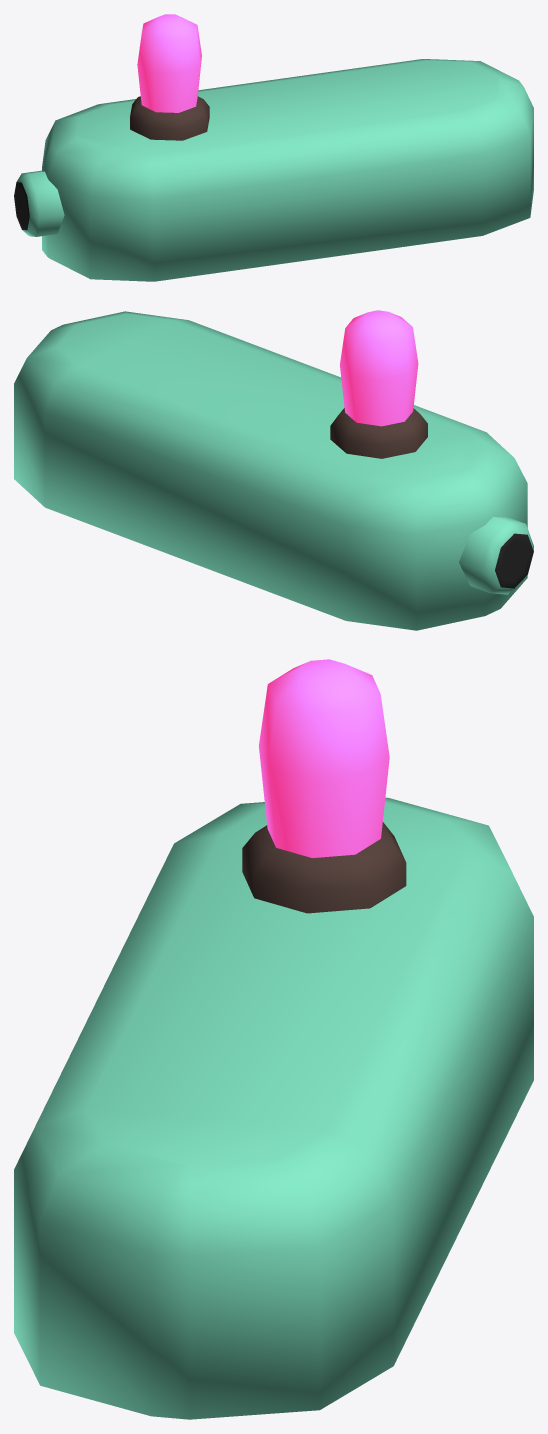
Rendered from button_base.fbx.
The picture shows the model from 3 angles, top to bottom: view 1: azimuth 30°, elevation 25°; view 2: azimuth 150°, elevation 25°; view 3: azimuth 270°, elevation 25°; orthographic projection. The views are drawn at different scales.
Visible parts, largest first — view 1: Cube.006; view 2: Cube.006; view 3: Cube.006.
Boxes of the visible parts, x1,y1,x2,y2 form: Cube.006: (14, 14, 533, 281); Cube.006: (14, 310, 533, 630); Cube.006: (14, 659, 533, 1419).
Size of the model in its own units: 76.91 by 34.64 by 37.64.
